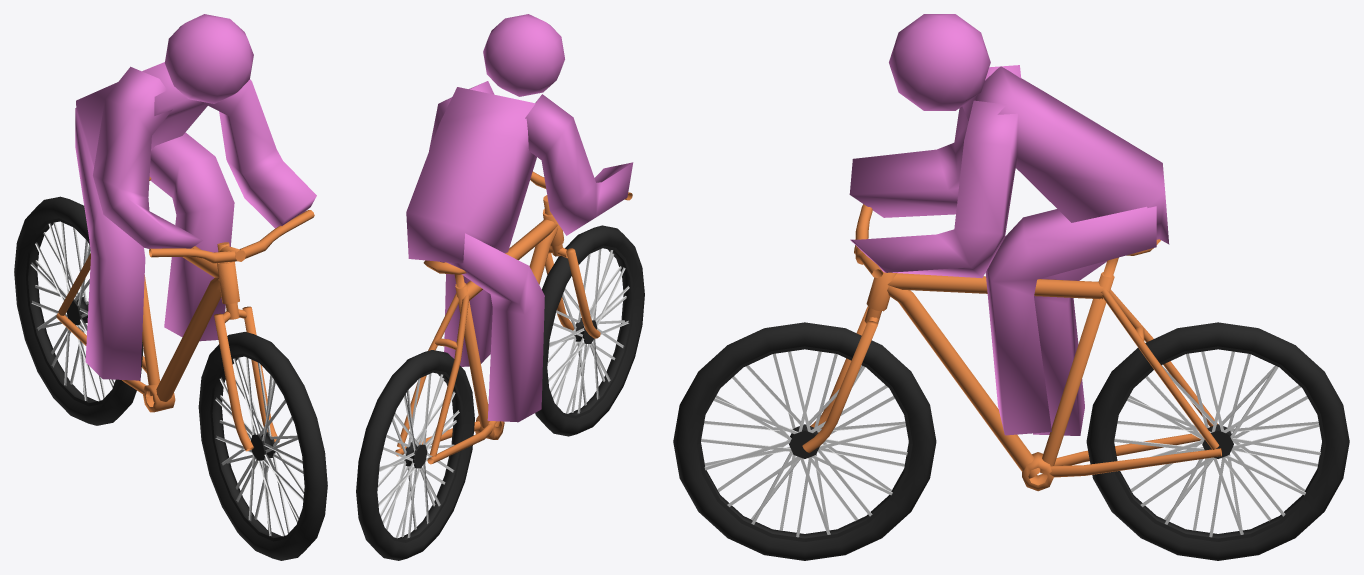
The model's file is bike.glb.
3 views of the same model, side by side, from view 1: azimuth 30°, elevation 25°; view 2: azimuth 150°, elevation 25°; view 3: azimuth 270°, elevation 25° (orthographic). The views are drawn at different scales.
Visible parts, largest first — view 1: Icosphere.027, bike_tire, Circle.002, bike_tire.001, bike_spokes, bike_spokes.001; view 2: Icosphere.027, bike_tire.001, Circle.002, bike_tire, bike_spokes.001, bike_spokes; view 3: Icosphere.027, Circle.002, bike_tire, bike_tire.001, bike_spokes, bike_spokes.001.
Boxes of the visible parts, x1,y1,x2,y2 form: Icosphere.027: (75,14,316,380); bike_tire: (198,332,327,560); Circle.002: (56,177,314,451); bike_tire.001: (14,196,143,425); bike_spokes: (215,357,304,536); bike_spokes.001: (30,222,114,401); Icosphere.027: (406,14,633,422); bike_tire.001: (356,350,474,560); Circle.002: (395,171,632,464); bike_tire: (535,225,644,436); bike_spokes.001: (377,373,459,538); bike_spokes: (547,249,629,413); Icosphere.027: (849,14,1169,435); Circle.002: (802,204,1221,491); bike_tire: (673,322,936,560); bike_tire.001: (1086,322,1349,560); bike_spokes: (701,351,907,537); bike_spokes.001: (1114,351,1320,537).
Size of the model in its own units: 1.2 by 3.25 by 3.63.
